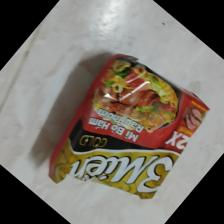3mien: (48, 54, 212, 201)
